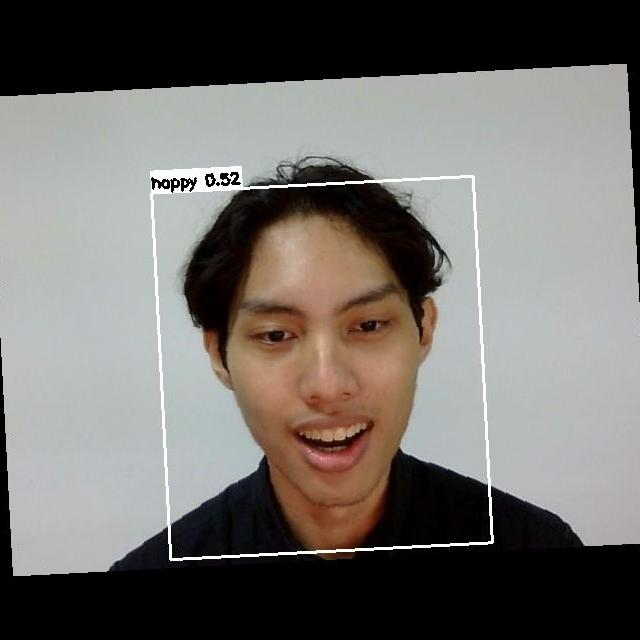Surprised: (224, 265, 432, 480)
